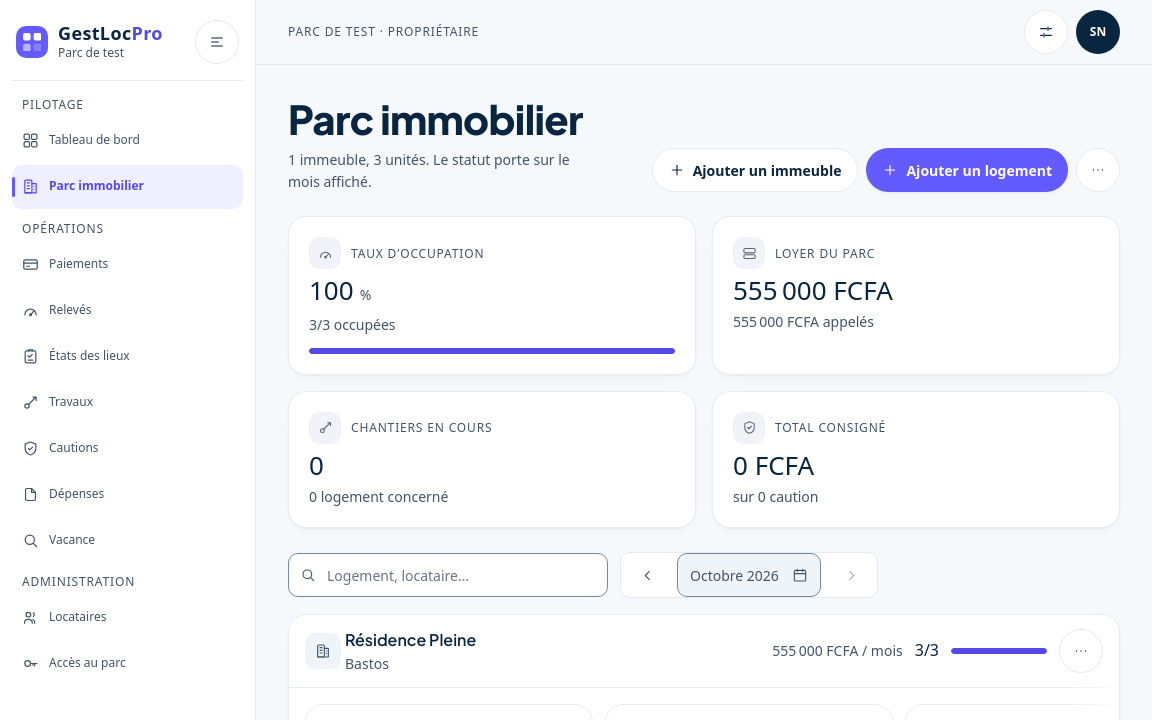
it: le sous-titre du parc compte ce que l’écran montre › dit que le mois affiché n’en porte AUCUNE quand il est vide
This screenshot has width=1152, height=720.
Click the button named "Mois précédent" at (647, 575), box [625,553,669,597]
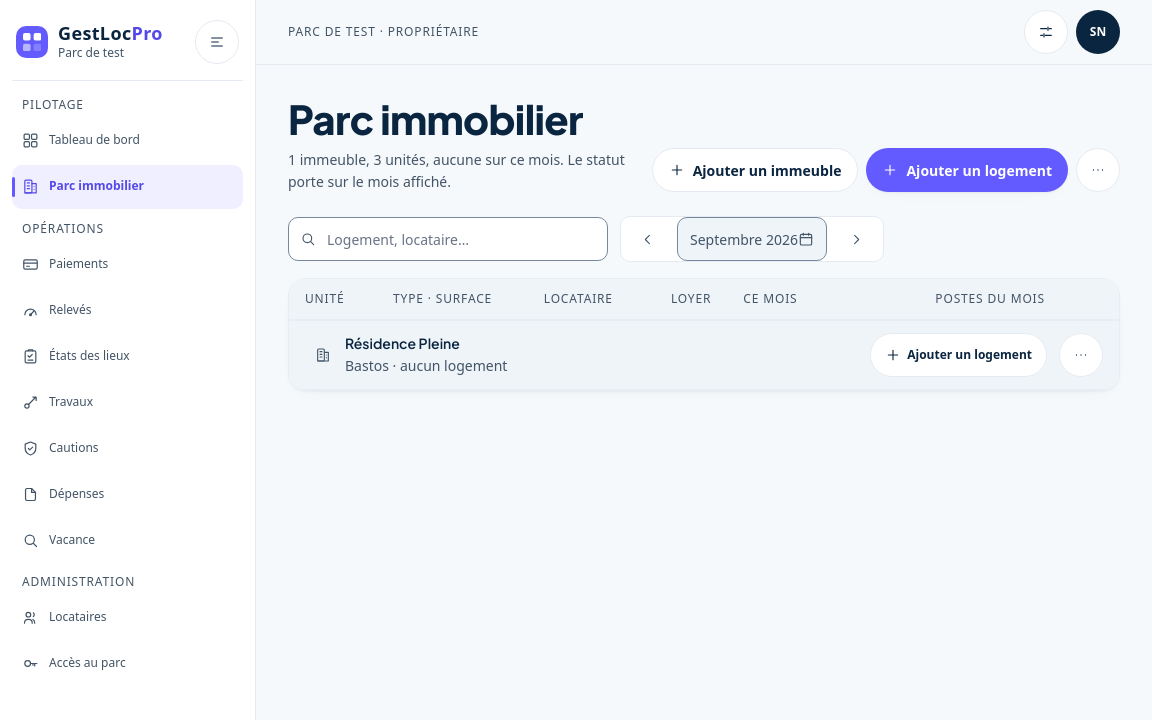
expect the text "Bastos · aucun logement" is shown: met, box [345,355,507,377]
expect the text "Le statut porte sur le mois affiché" shows "aucune sur ce mois": met, box [288,150,625,191]
expect the text "Le statut porte sur le mois affiché" no longer shows "unités. Le statut": met
